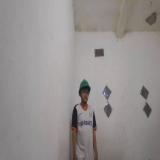Helmet: (78, 77, 91, 97)
